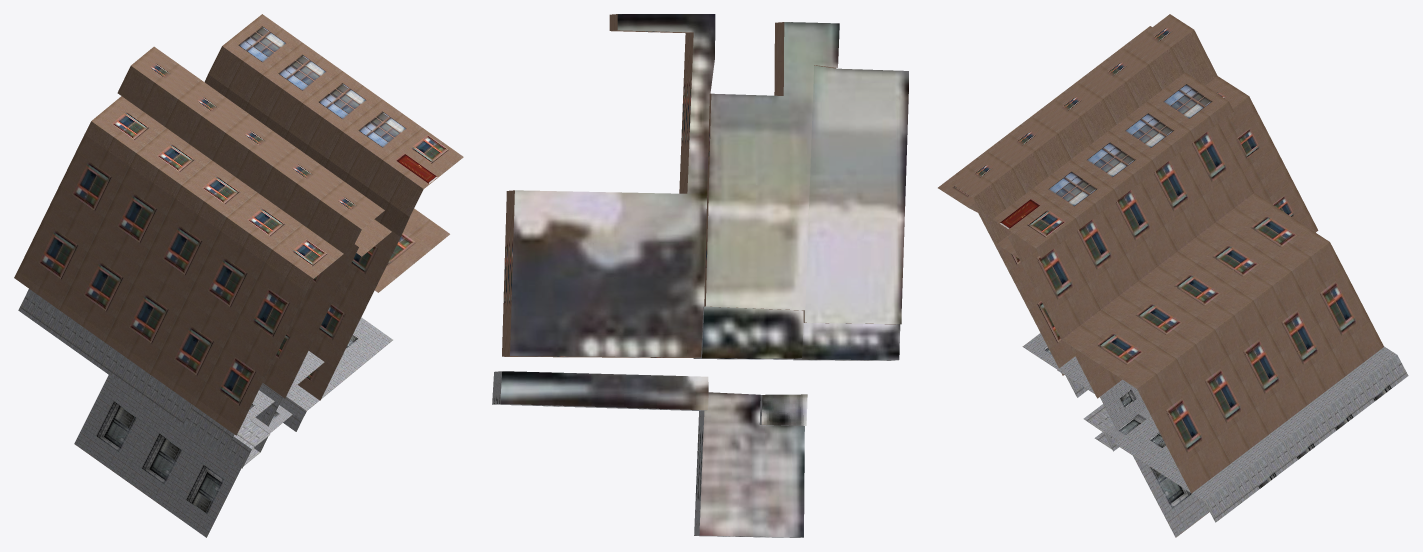
3 renders of one model, left to right at view 1: azimuth 30°, elevation 25°; view 2: azimuth 150°, elevation 25°; view 3: azimuth 270°, elevation 25°, orthographic. The views are drawn at different scales.
Bounding box in the file's own units: 28.45 × 33.11 × 30.17.
Materials: 27 (27 with a texture image).
